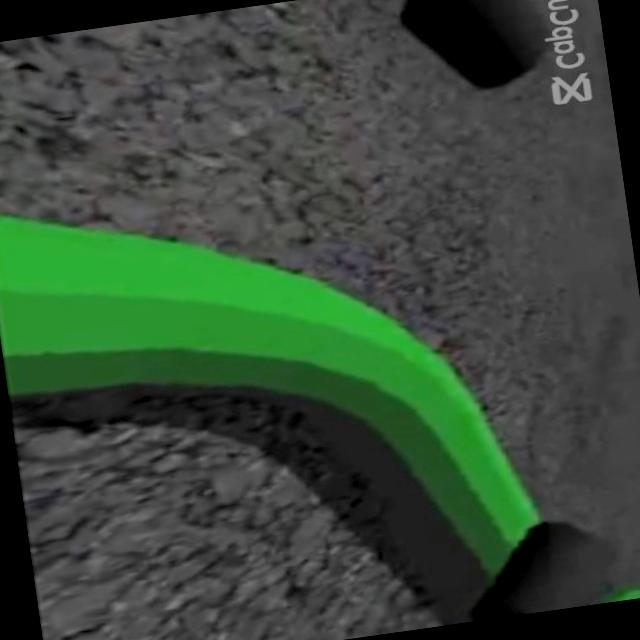gas: (0, 141, 538, 587)
